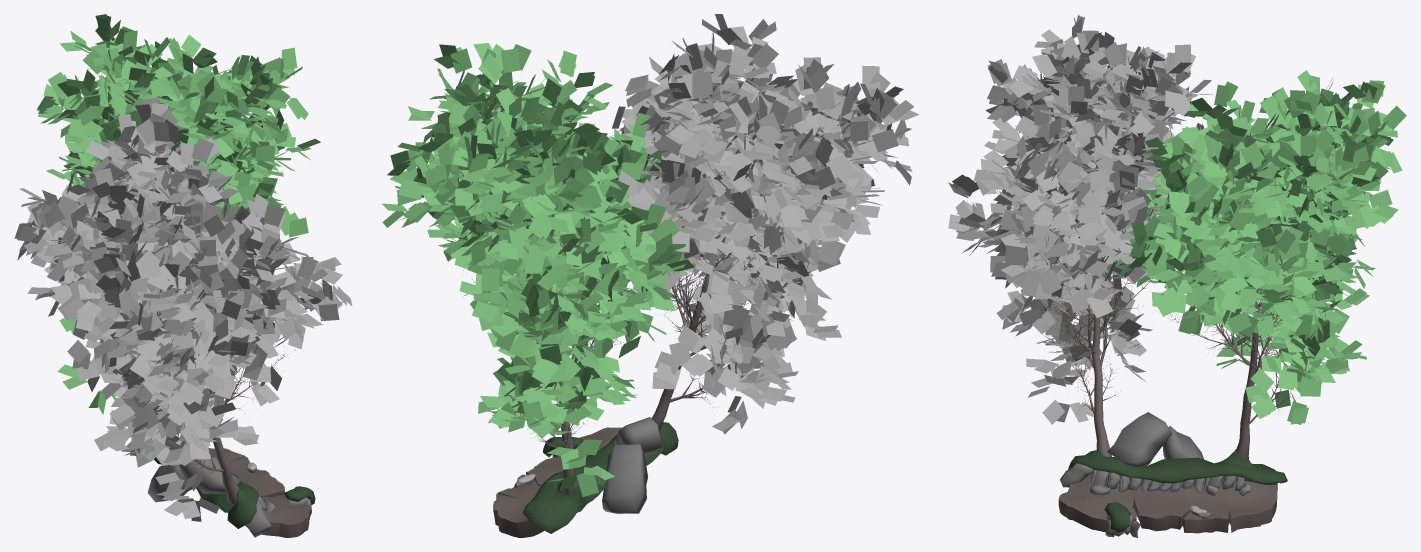
The model's file is hirsch.fbx.
The picture shows the model from 3 angles, left to right: view 1: azimuth 30°, elevation 25°; view 2: azimuth 150°, elevation 25°; view 3: azimuth 270°, elevation 25°; orthographic projection. The views are drawn at different scales.
Visible parts, largest first — view 1: leafs, tree01:leafs, ground, rock3, moos, branches; view 2: tree01:leafs, leafs, moos, rock3, ground, branches, tree01:branches; view 3: tree01:leafs, leafs, ground, rock3, moos, branches, tree01:branches.
Boxes of the visible parts, x1=… form: leafs: x1=14, y1=94, x2=352, y2=521; tree01:leafs: x1=37, y1=14, x2=320, y2=414; ground: x1=208, y1=448, x2=311, y2=537; rock3: x1=147, y1=454, x2=311, y2=537; moos: x1=154, y1=435, x2=315, y2=528; branches: x1=159, y1=340, x2=295, y2=503; tree01:leafs: x1=382, y1=42, x2=694, y2=496; leafs: x1=611, y1=14, x2=919, y2=434; moos: x1=517, y1=422, x2=678, y2=533; rock3: x1=514, y1=417, x2=661, y2=513; ground: x1=493, y1=427, x2=621, y2=537; branches: x1=651, y1=237, x2=783, y2=432; tree01:branches: x1=472, y1=271, x2=627, y2=494; tree01:leafs: x1=1101, y1=70, x2=1406, y2=424; leafs: x1=948, y1=14, x2=1213, y2=424; ground: x1=1058, y1=472, x2=1277, y2=533; rock3: x1=1060, y1=412, x2=1252, y2=537; moos: x1=1068, y1=449, x2=1287, y2=533; branches: x1=1019, y1=260, x2=1153, y2=456; tree01:branches: x1=1154, y1=253, x2=1324, y2=459.
Size of the model in its own units: 1697 by 1868 by 1795.
